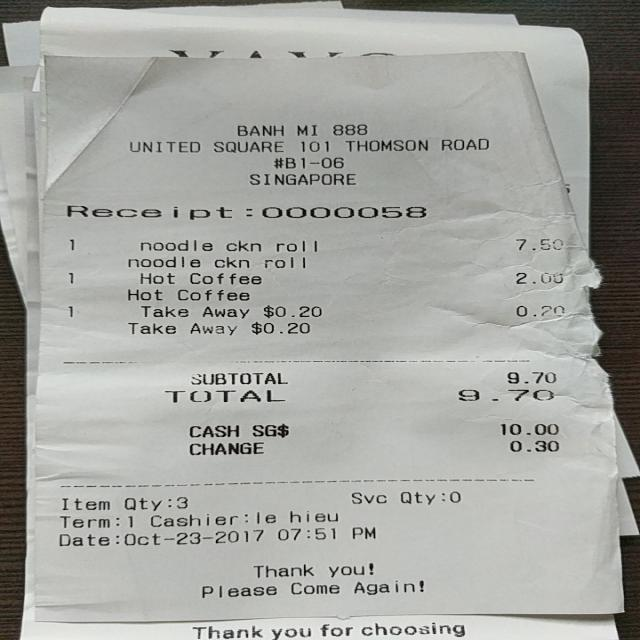bill_region: (53, 229, 572, 408)
